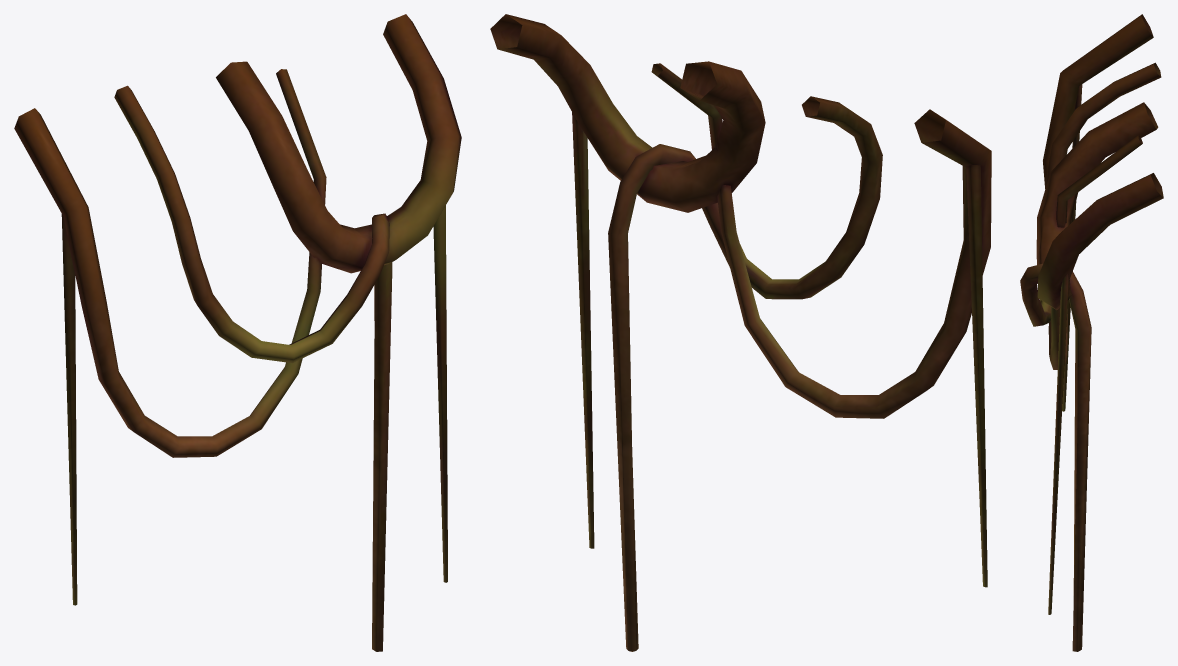
Rendered from vine2.fbx.
3 renders of one model, left to right at view 1: azimuth 30°, elevation 25°; view 2: azimuth 150°, elevation 25°; view 3: azimuth 270°, elevation 25°, orthographic. The views are drawn at different scales.
Visible parts, largest first — view 1: Vine_022; view 2: Vine_022; view 3: Vine_022.
Boxes of the visible parts, x1,y1,x2,y2 form: Vine_022: (14, 14, 461, 651); Vine_022: (490, 14, 991, 651); Vine_022: (1020, 14, 1163, 651).
Size of the model in its own units: 13.56 by 19.03 by 4.88.
Materials: 1 (1 with a texture image).
